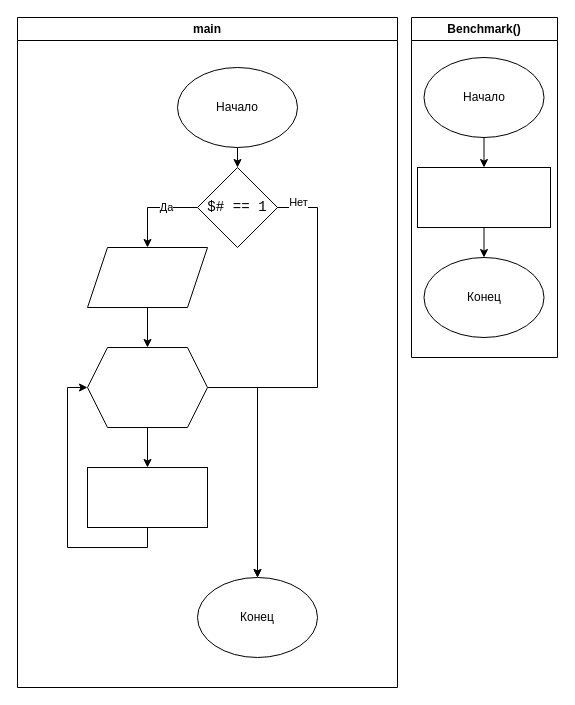
This 575x705 diagram has some shape labels left out. The shapes that lost their labels are listed below. From the top down, each one's centre as x and y in pixels, then its label:
point 483,197: g++ -Wall -03 $1 time ./a.out du -b ./a.out
point 147,277: source flags
point 147,387: f in "${flags[@]}"
point 147,497: Benchmark "$f $source"
